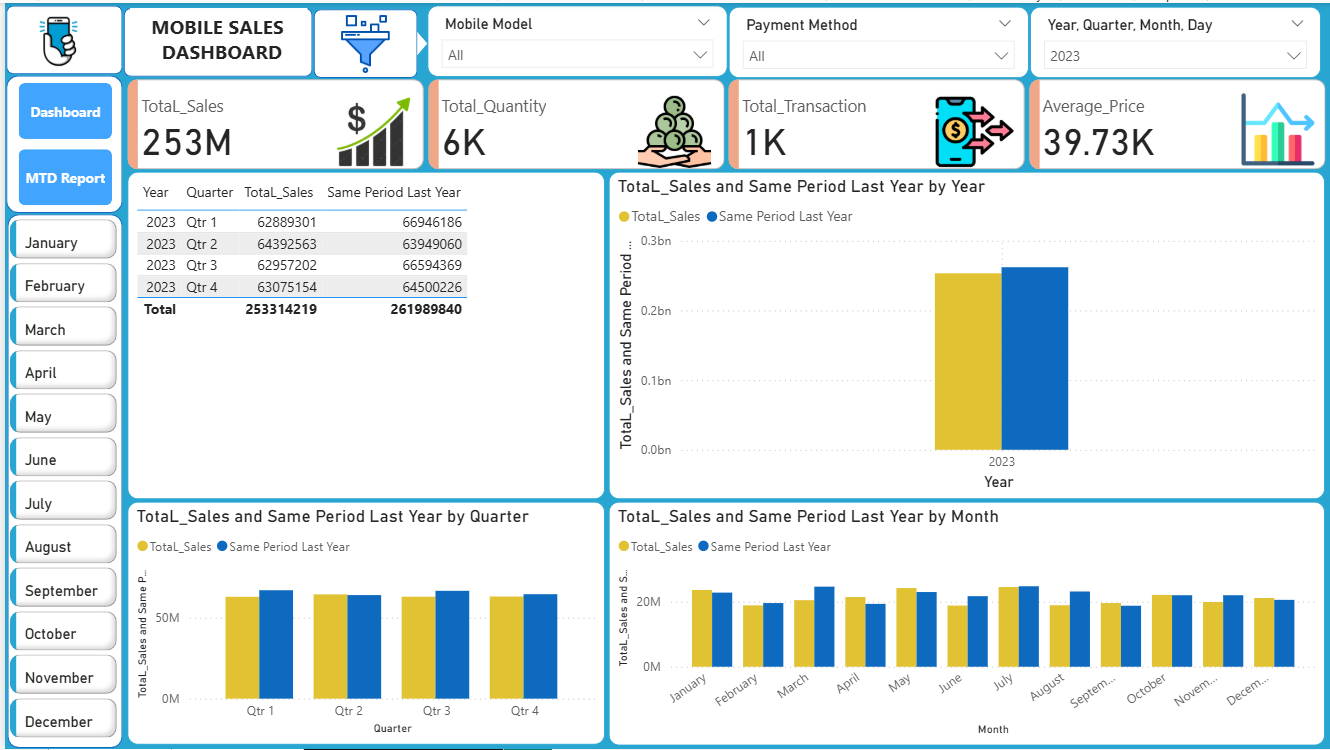

Layout of this report page (visuals, bound fields, positions):
{"tool":"powerbi","page":{"name":"Same Period Last Year","canvas":[1280,720],"ordinal":2},"visuals":[{"type":"shape","box":[1.2,2.4,112.2,66.4],"z":0},{"type":"shape","box":[1.2,70,112.2,132.7],"z":1000},{"type":"cardVisual","fields":{"Data":["Sales_Data.TotaL_Sales","Sales_Data.Total_Quantity","Sales_Data.Total_Transaction","Sales_Data.Average_Price"]},"box":[113.4,68.8,1166.6,97.7],"z":2000},{"type":"image","box":[12.1,1.2,78.4,71.2],"z":3000},{"type":"slicer","fields":{"Values":["Sales_Data.Mobile Model"]},"box":[407.8,2.4,289.5,68.8],"z":4000},{"type":"slicer","fields":{"Values":["Sales_Data.Payment Method"]},"box":[698.5,3.6,289.5,68.8],"z":5000},{"type":"slicer","fields":{"Values":["Costom_Calender.Date.Variation.Date Hierarchy.Year","Costom_Calender.Date.Variation.Date Hierarchy.Quarter","Costom_Calender.Date.Variation.Date Hierarchy.Month","Costom_Calender.Date.Variation.Date Hierarchy.Day"]},"box":[989.3,3.6,281.1,68.8],"z":6000},{"type":"shape","box":[114.6,4.8,182.2,66.4],"z":7000},{"type":"shape","box":[386.1,26.5,21.7,25.3],"z":8000},{"type":"shape","box":[298,6,100.1,66.4],"z":9000},{"type":"image","box":[272.7,6,150.8,67.6],"z":10000},{"type":"textbox","box":[120.6,4.8,171.3,62.7],"z":11000},{"type":"shape","box":[2.4,203.9,111,515.2],"z":13000},{"type":"advancedSlicerVisual","fields":{"Values":["Costom_Calender.Date.Variation.Date Hierarchy.Month"]},"box":[0,203.9,113.4,516.4],"z":14000},{"type":"tableEx","fields":{"Values":["Costom_Calender.Date.Variation.Date Hierarchy.Year","Costom_Calender.Date.Variation.Date Hierarchy.Quarter","Sales_Data.TotaL_Sales","Sales_Data.Same Period Last Year"]},"box":[118.2,162.9,460.9,316.1],"z":14001},{"type":"clusteredColumnChart","fields":{"Category":["Costom_Calender.Date.Variation.Date Hierarchy.Year","Costom_Calender.Date.Variation.Date Hierarchy.Quarter"],"Y":["Sales_Data.TotaL_Sales","Sales_Data.Same Period Last Year"]},"box":[582.7,162.9,691.3,316.1],"z":14002},{"type":"clusteredColumnChart","fields":{"Category":["Costom_Calender.Date.Variation.Date Hierarchy.Year","Costom_Calender.Date.Variation.Date Hierarchy.Quarter"],"Y":["Sales_Data.TotaL_Sales","Sales_Data.Same Period Last Year"]},"box":[118.2,481.4,460.9,234],"z":14003},{"type":"clusteredColumnChart","fields":{"Y":["Sales_Data.TotaL_Sales","Sales_Data.Same Period Last Year"],"Category":["Costom_Calender.Date.Variation.Date Hierarchy.Year","Costom_Calender.Date.Variation.Date Hierarchy.Quarter","Costom_Calender.Date.Variation.Date Hierarchy.Month","Costom_Calender.Date.Variation.Date Hierarchy.Day"]},"box":[582.7,481.4,691.3,235.3],"z":14004},{"type":"pageNavigator","box":[13.3,77.2,90.5,118.2],"z":14005}]}

Visuals, with their boxes in screenshot pixels (x1, y1, x2, y2), scaled from the page's 1280x720 canvas onto the 1330x750 screenshot:
shape: box(1, 2, 118, 72)
shape: box(1, 73, 118, 211)
cardVisual - Sales_Data.TotaL_Sales x Sales_Data.Total_Quantity: box(118, 72, 1329, 173)
image: box(13, 1, 94, 75)
slicer - Sales_Data.Mobile Model: box(424, 2, 725, 74)
slicer - Sales_Data.Payment Method: box(726, 4, 1027, 75)
slicer - Costom_Calender.Date.Variation.Date Hierarchy.Year x Costom_Calender.Date.Variation.Date Hierarchy.Quarter: box(1028, 4, 1320, 75)
shape: box(119, 5, 308, 74)
shape: box(401, 28, 424, 54)
shape: box(310, 6, 414, 75)
image: box(283, 6, 440, 77)
textbox: box(125, 5, 303, 70)
shape: box(2, 212, 118, 749)
advancedSlicerVisual - Costom_Calender.Date.Variation.Date Hierarchy.Month: box(0, 212, 118, 749)
tableEx - Costom_Calender.Date.Variation.Date Hierarchy.Year x Costom_Calender.Date.Variation.Date Hierarchy.Quarter: box(123, 170, 602, 499)
clusteredColumnChart - Costom_Calender.Date.Variation.Date Hierarchy.Year x Costom_Calender.Date.Variation.Date Hierarchy.Quarter: box(605, 170, 1324, 499)
clusteredColumnChart - Costom_Calender.Date.Variation.Date Hierarchy.Year x Costom_Calender.Date.Variation.Date Hierarchy.Quarter: box(123, 501, 602, 745)
clusteredColumnChart - Sales_Data.TotaL_Sales x Sales_Data.Same Period Last Year: box(605, 501, 1324, 747)
pageNavigator: box(14, 80, 108, 204)
